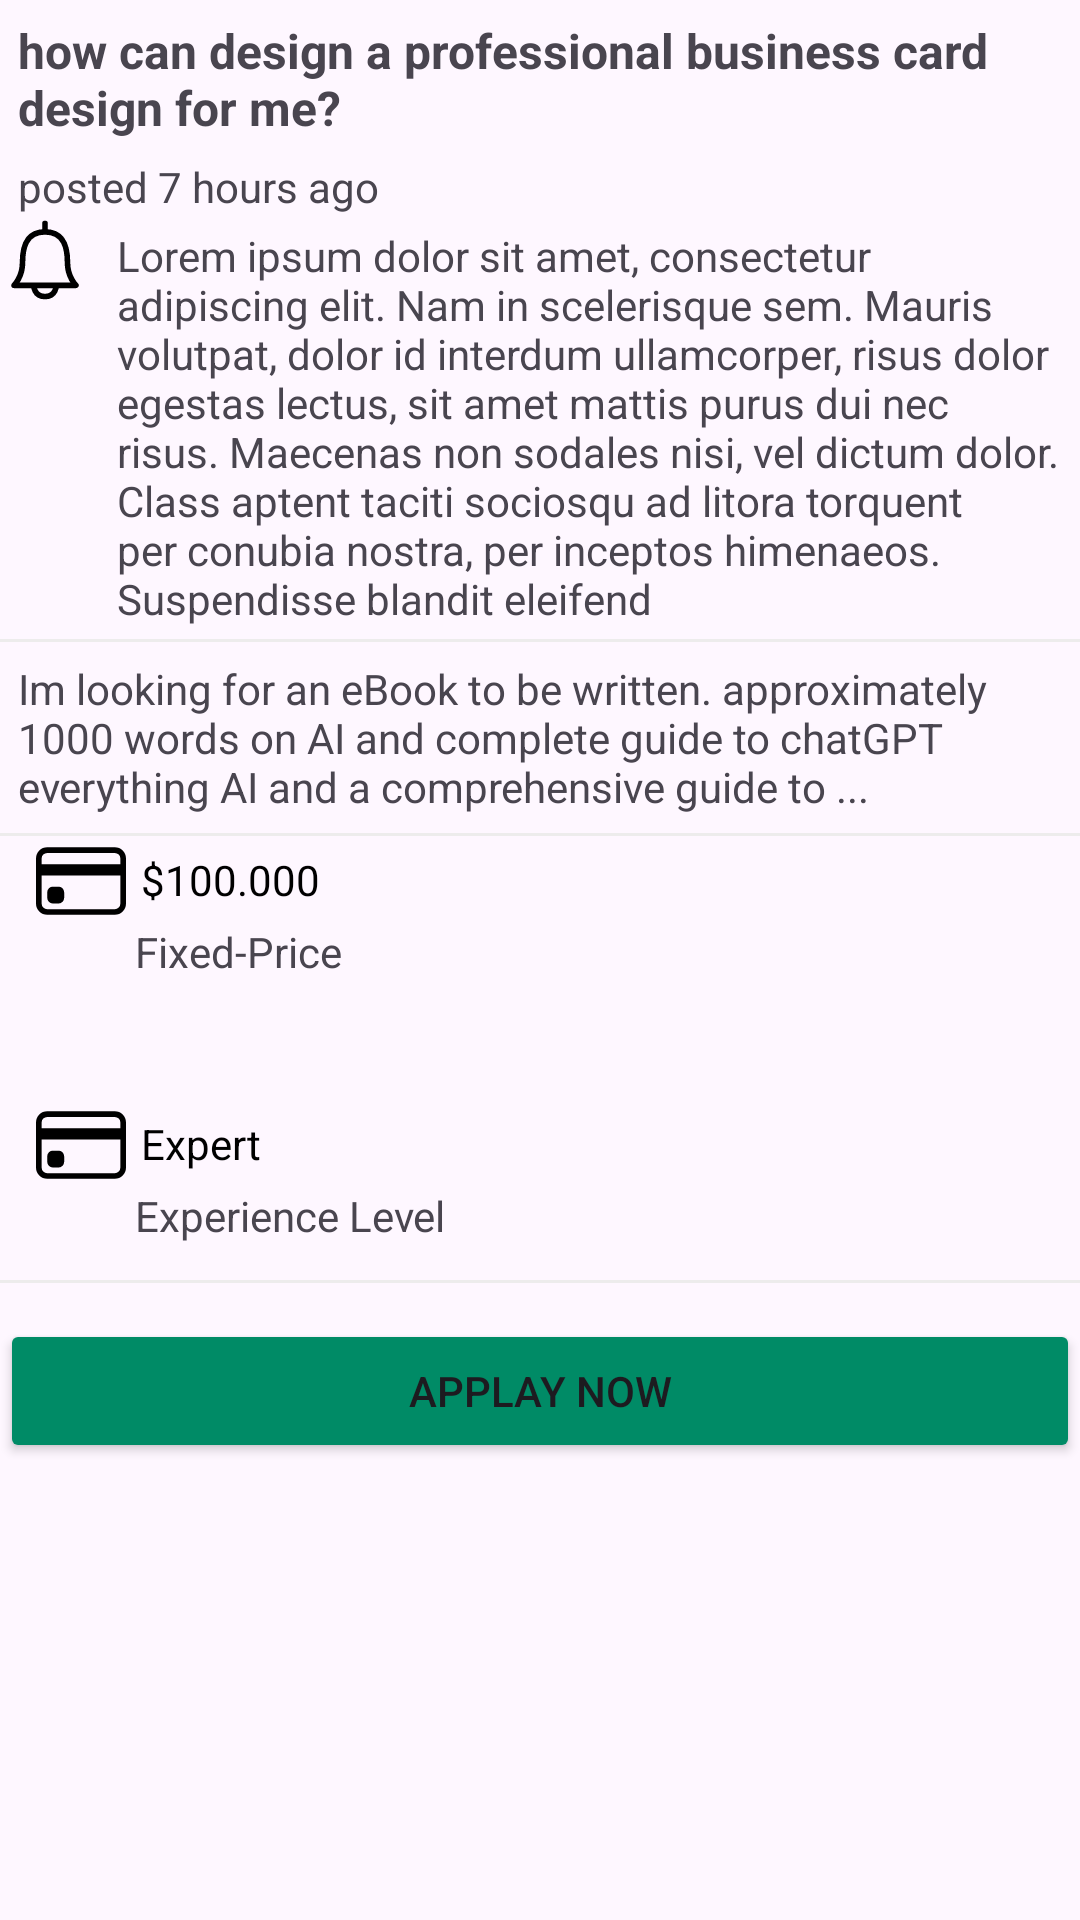

Where to tap for icons on this 1080×1920 app screen, as point (x, y):
bell: point (45, 260)
payment: point (81, 881), point (81, 1145)
